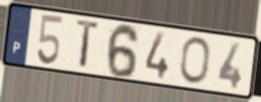4: (144, 29, 172, 81), (215, 41, 243, 92)
5: (35, 14, 65, 67)
6: (105, 21, 142, 80)
O: (178, 35, 211, 86)
T: (74, 17, 102, 71)
